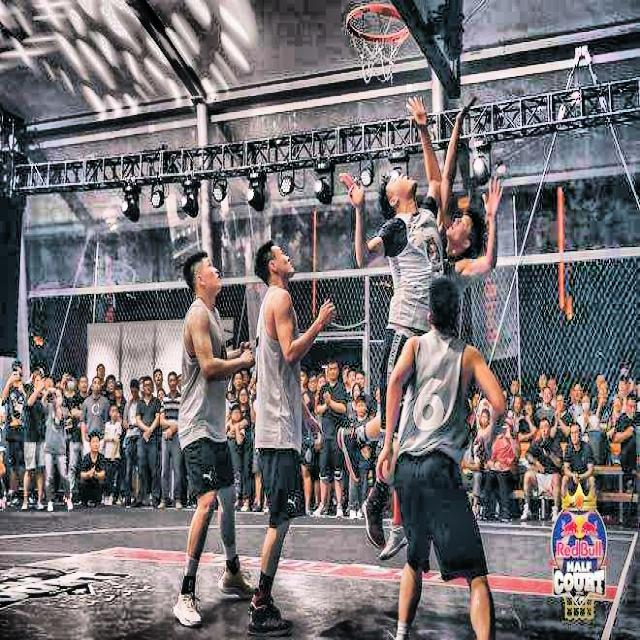rim: (346, 0, 408, 90)
